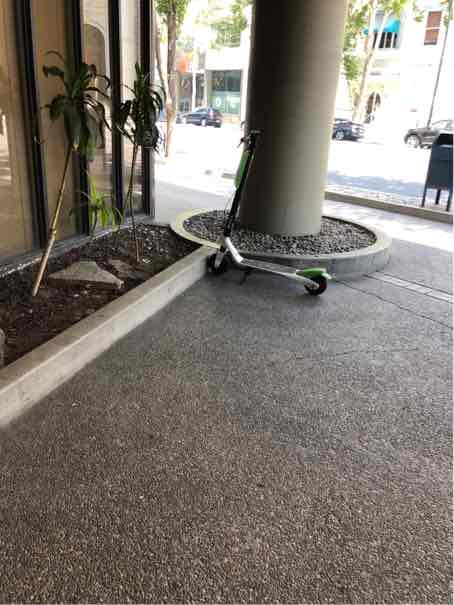scooter: (210, 98, 334, 307)
